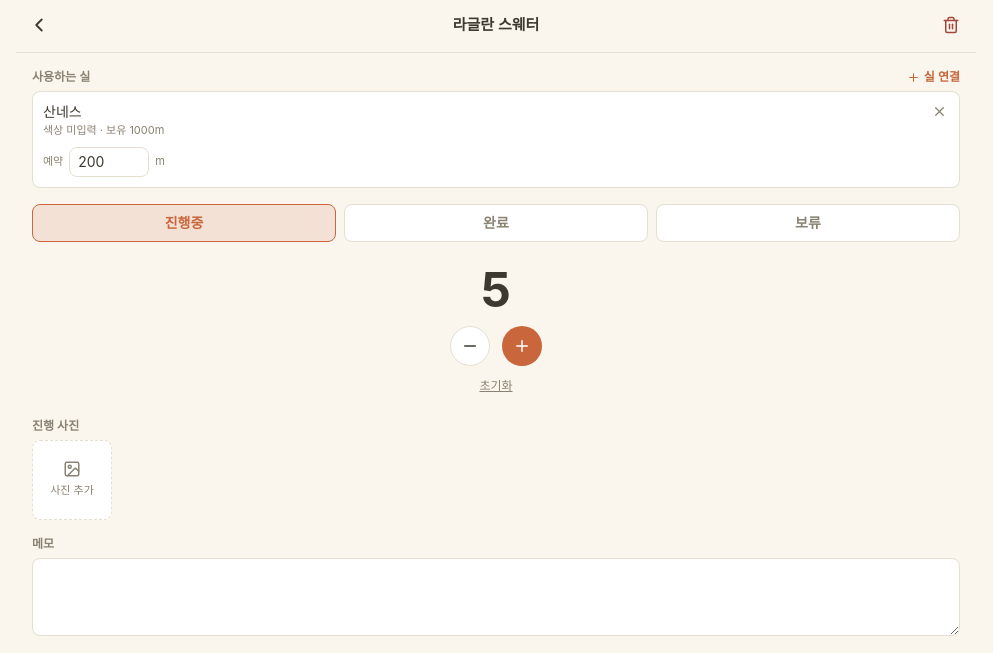
Test: ProjectDetailPage 단수 카운터 › 연달아 눌러도 누른 만큼 올라가고, 저장은 순서대로 보내며 다 끝난 뒤 한 번만 다시 불러온다
Click the button named "단수 늘리기" at (522, 346), box [502,326,542,366]
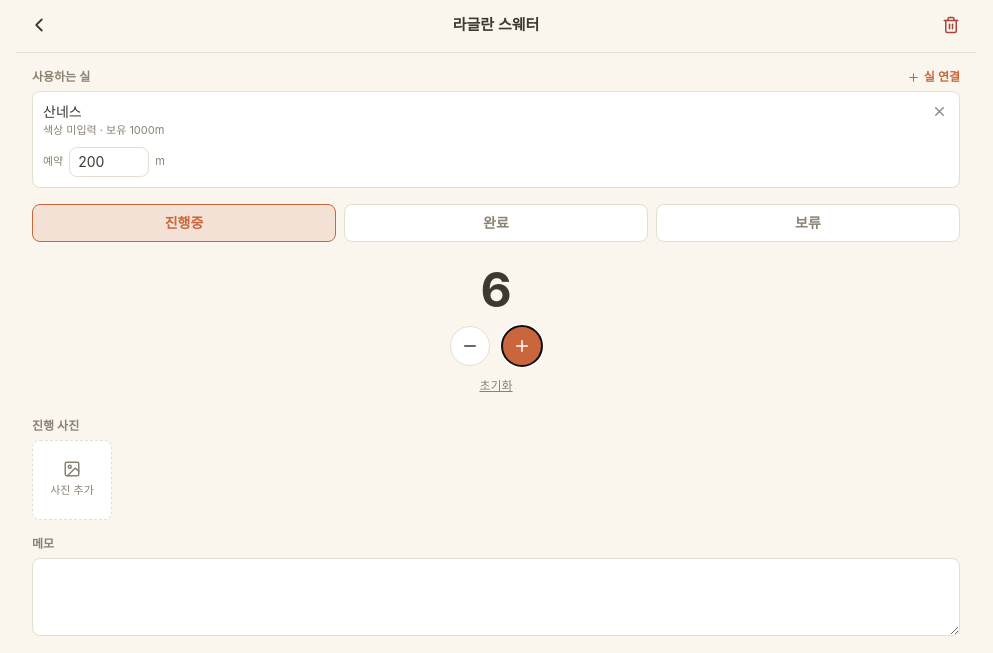
Click the button named "단수 늘리기" at (522, 346), box [502,326,542,366]
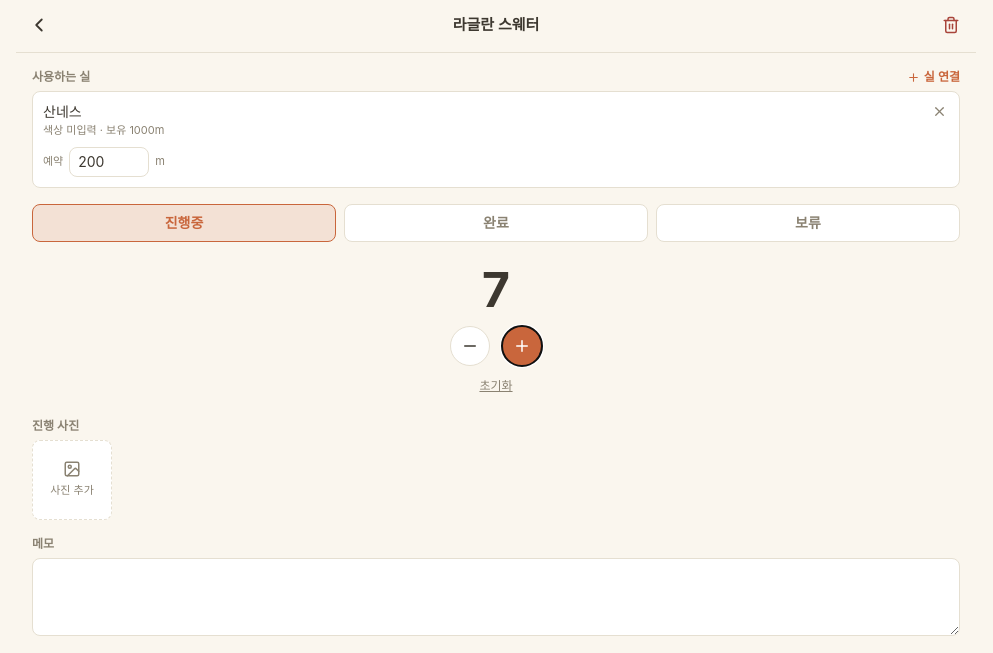
Expected: the text "7" is shown, [482,266,510,314]
